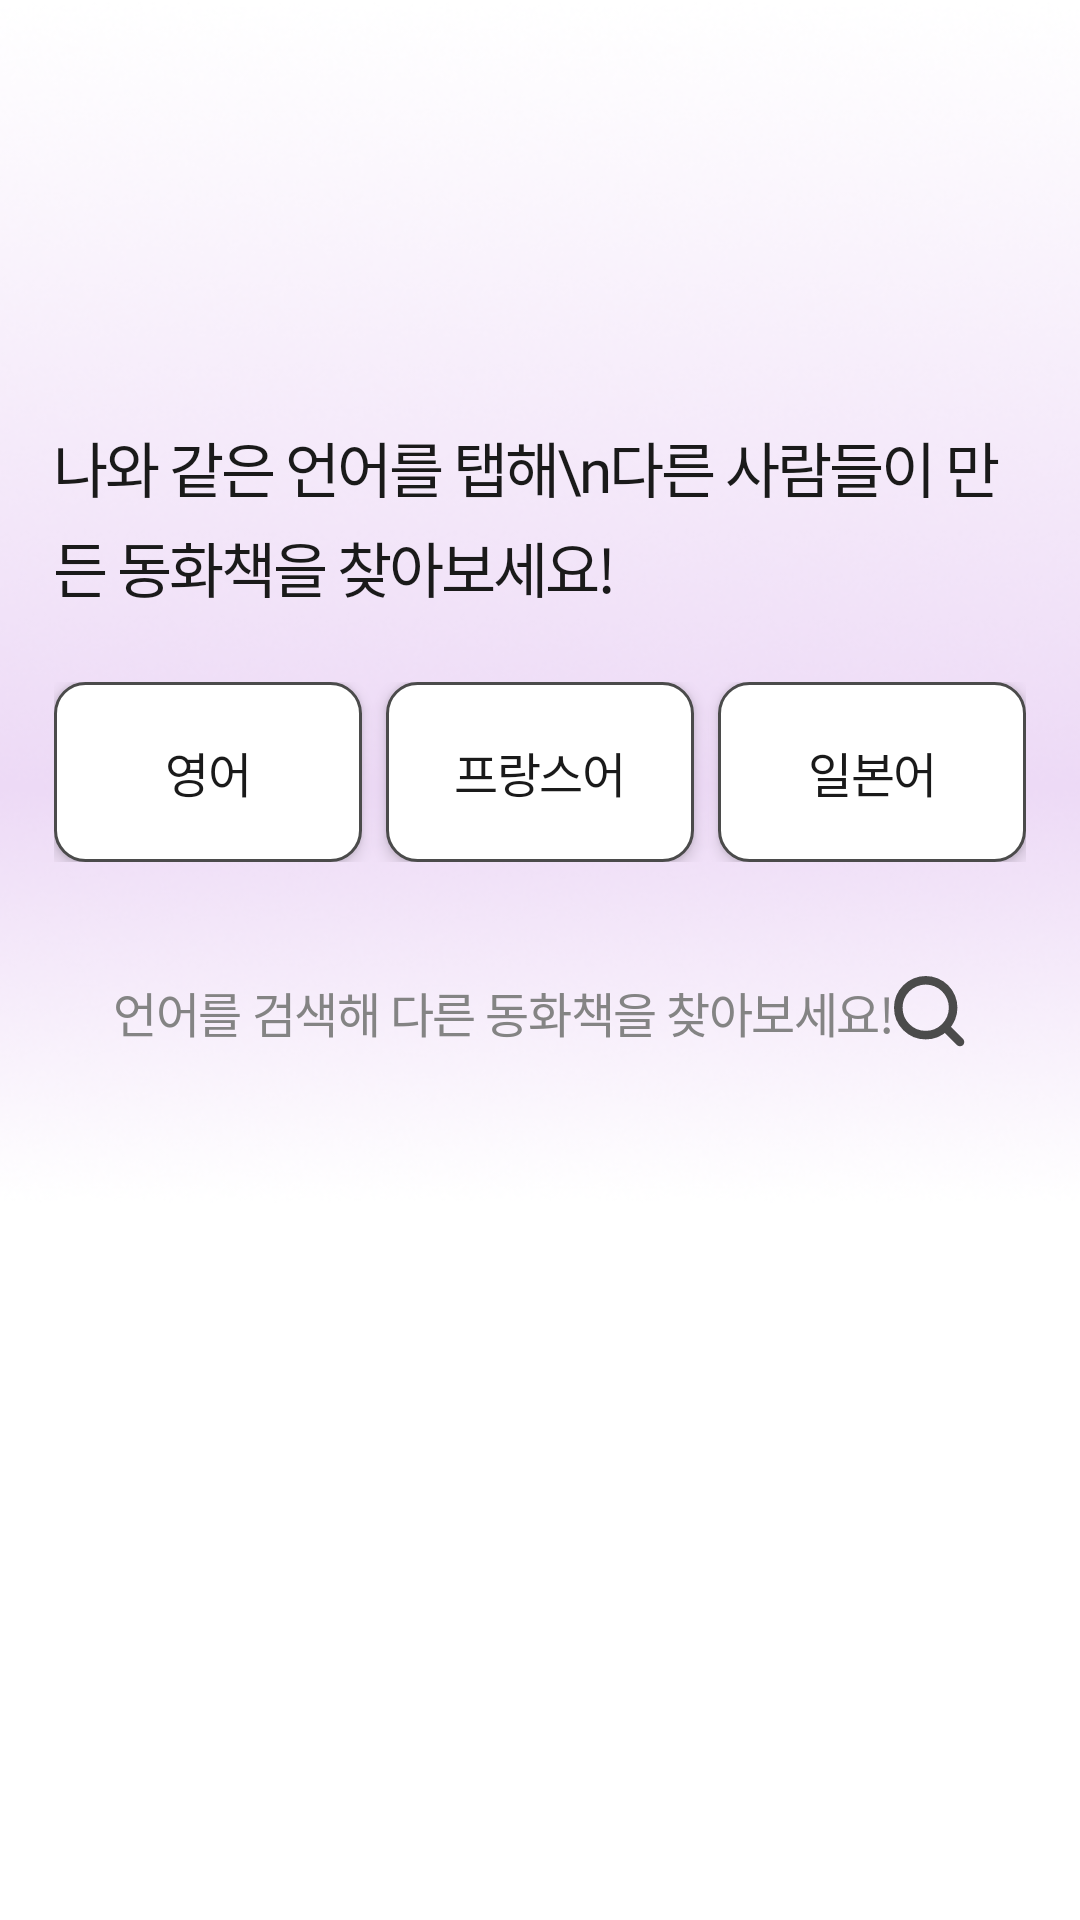

Icons on this 1080x1920 Android screen, each with the point to tap as (x,y):
search: (929,1011)
